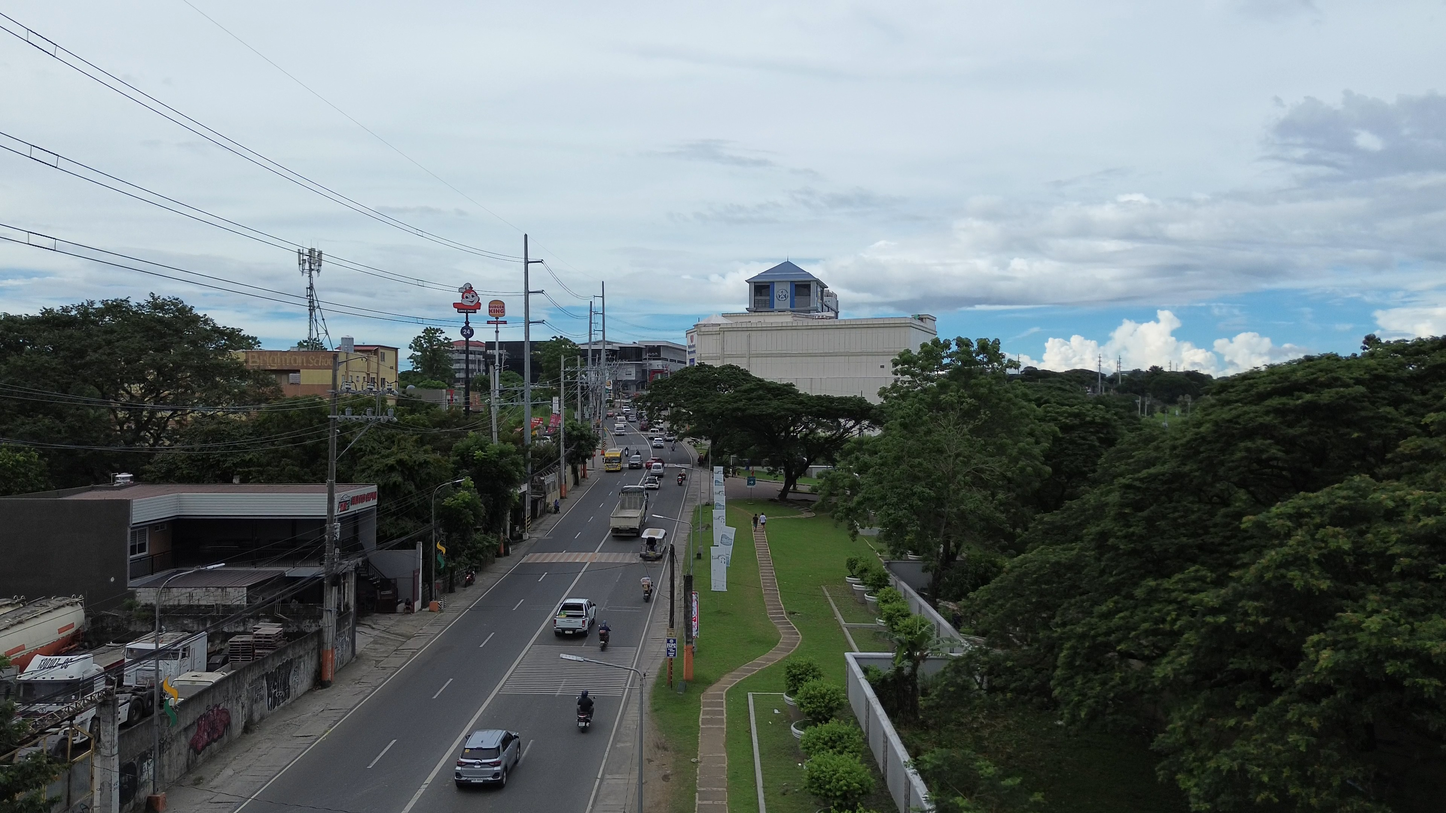car: (455, 729, 522, 786), (628, 454, 644, 469), (643, 475, 660, 489), (664, 433, 676, 442)
motorcycle: (577, 711, 592, 731), (598, 628, 610, 650)
vehicle: (0, 597, 85, 672), (15, 654, 107, 717), (124, 632, 206, 691), (610, 486, 649, 535), (553, 598, 596, 636), (639, 528, 666, 561), (604, 449, 622, 472), (598, 626, 610, 650), (649, 462, 665, 478), (643, 475, 660, 490), (628, 454, 644, 469), (647, 456, 664, 469), (613, 423, 627, 435), (651, 437, 665, 448), (664, 434, 677, 442)
